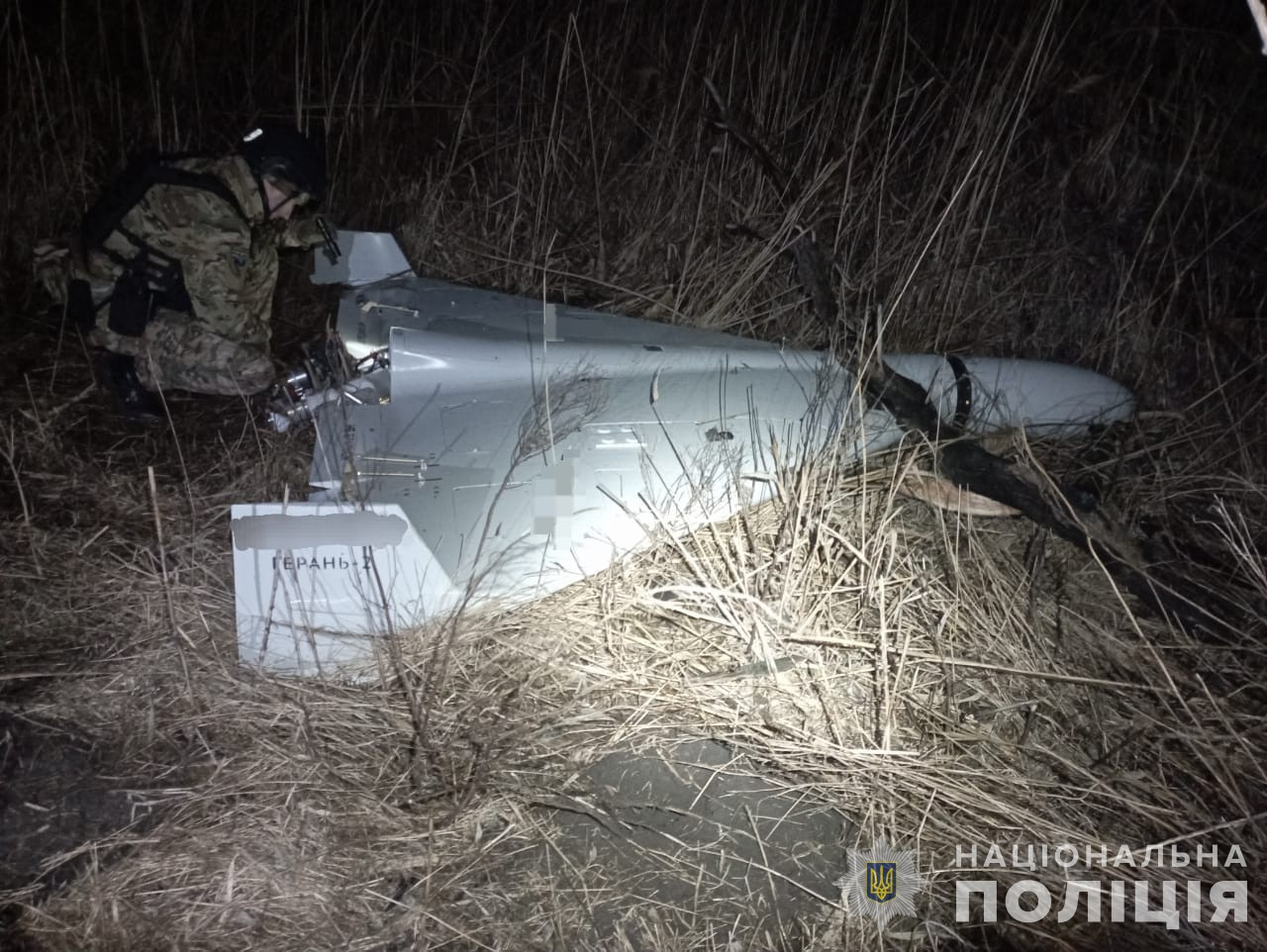shahed: (228, 226, 1135, 674)
